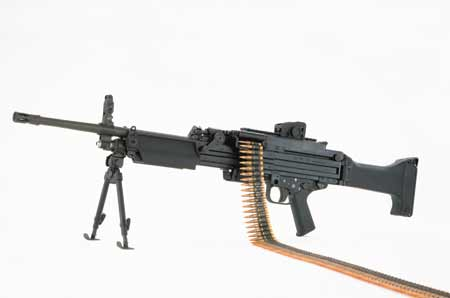rifle: (6, 97, 433, 286)
